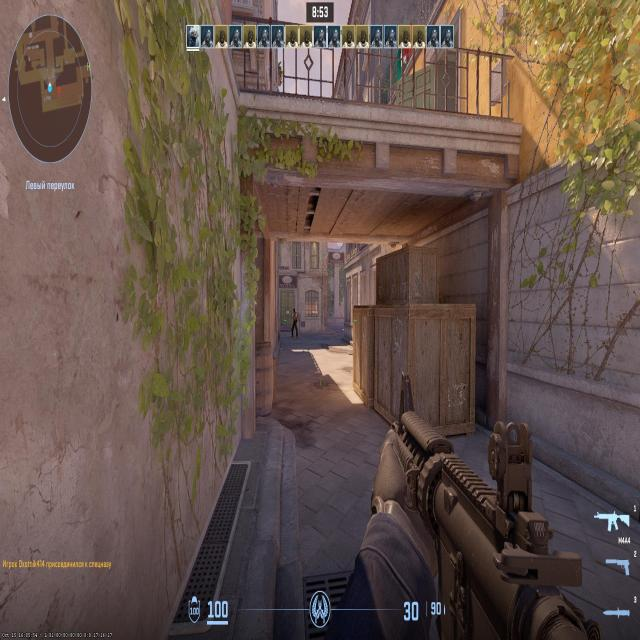T: (292, 310, 296, 334)
T_heat: (294, 311, 296, 312)
